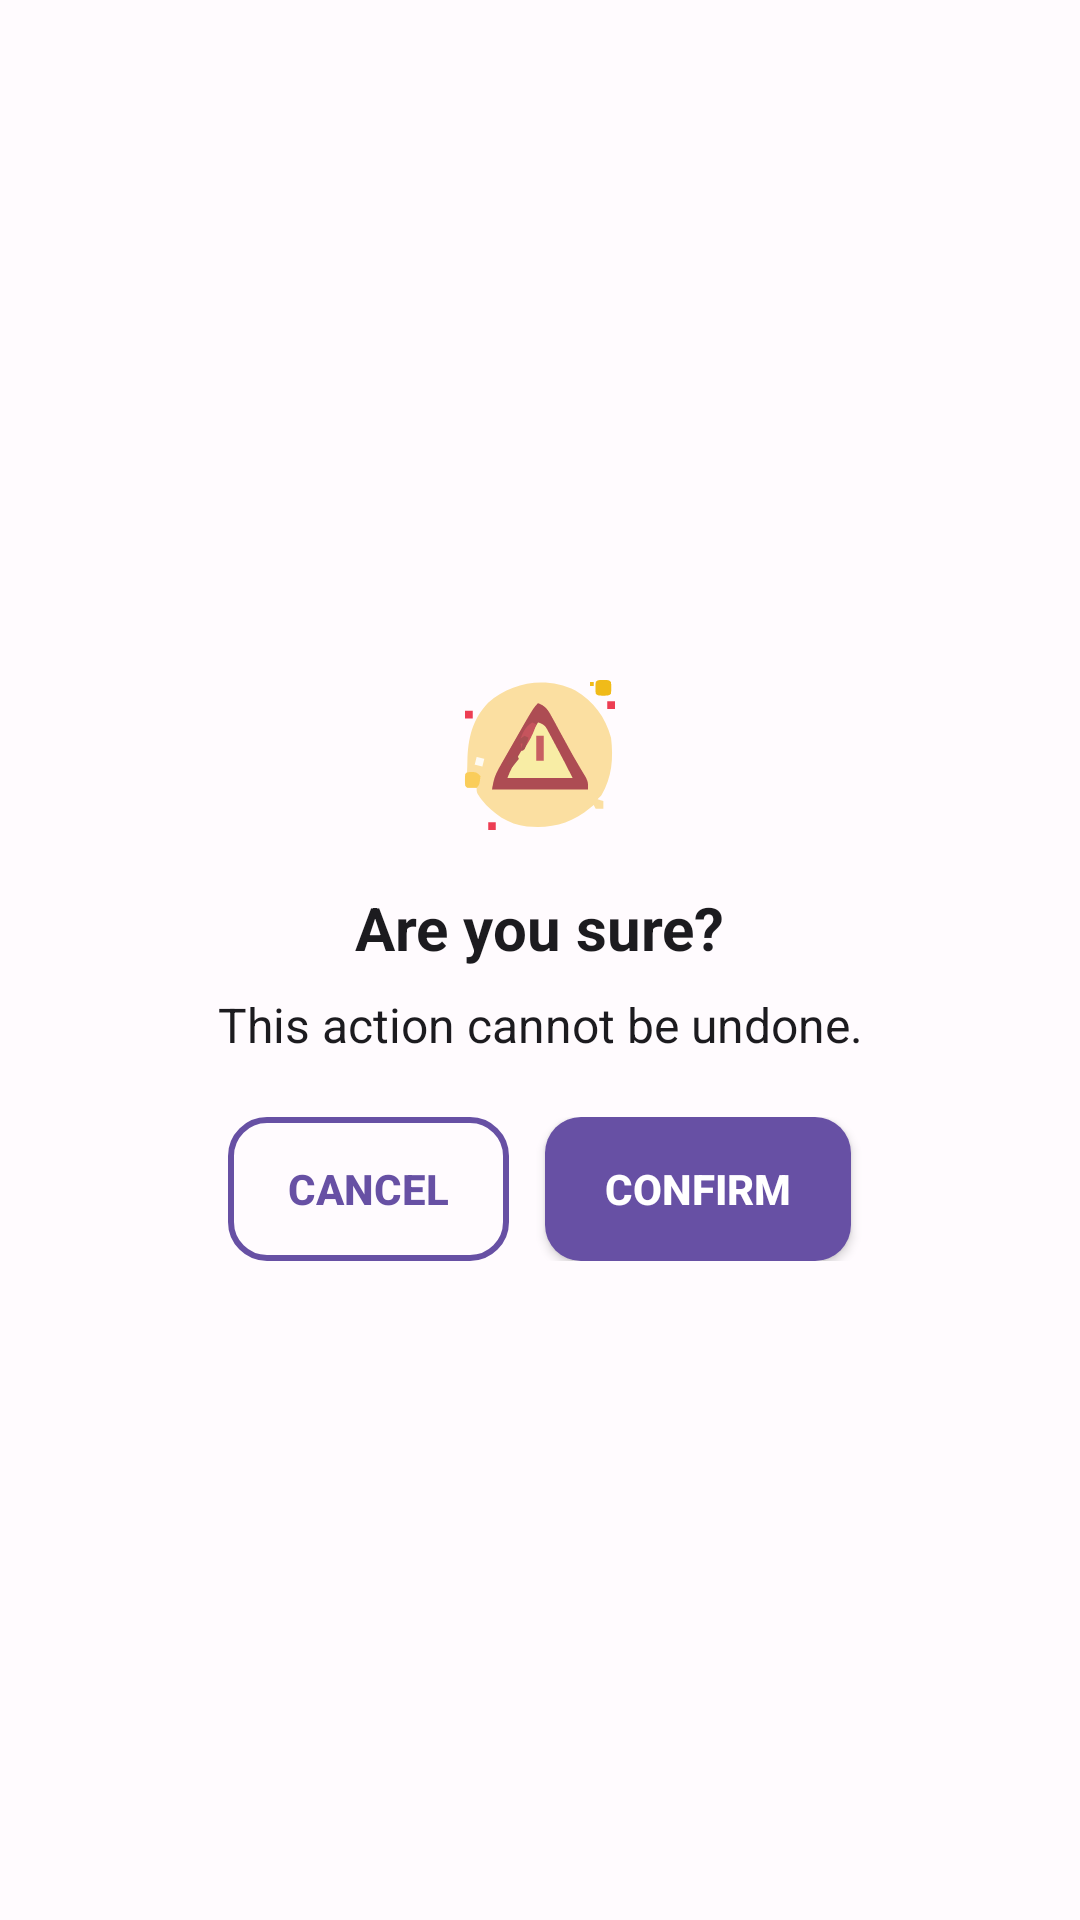

Where to tap for icons on this 1080*1920 app screen, as (x,y):
warning: (540,755)
